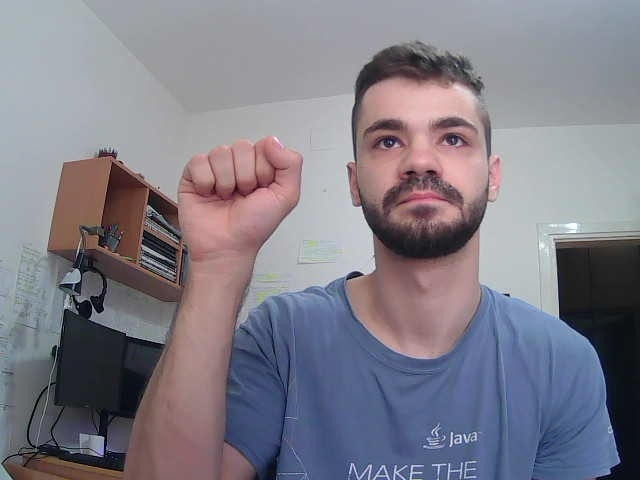a: (160, 117, 315, 265)
